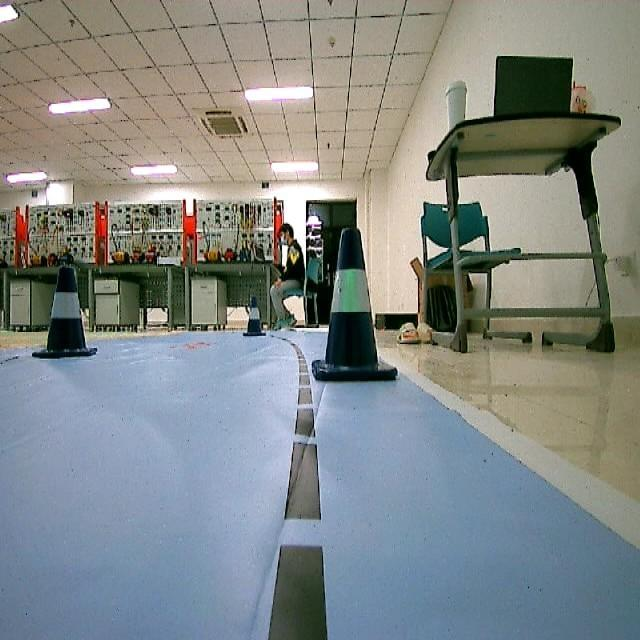obstacle: (318, 226, 401, 384), (31, 262, 97, 364), (244, 296, 266, 338)
